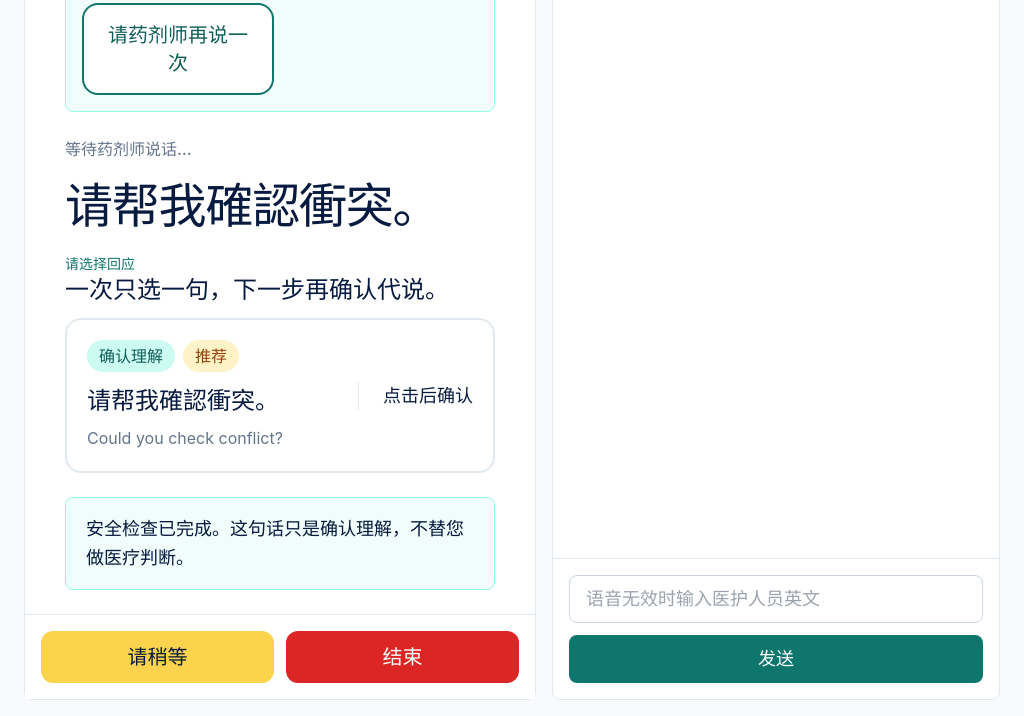
it: ConversationPage › renders State C (Inline Confirmation) directly replacing cards list
(page scrolled)
// Click to select the card to enter State C (Confirmation)
Click the button "确认理解 推荐 请帮我確認衝突。 Could you check conflict? 点击后确认". click: coordinates (280, 396)
box: [65, 318, 495, 473]
(page scrolled)
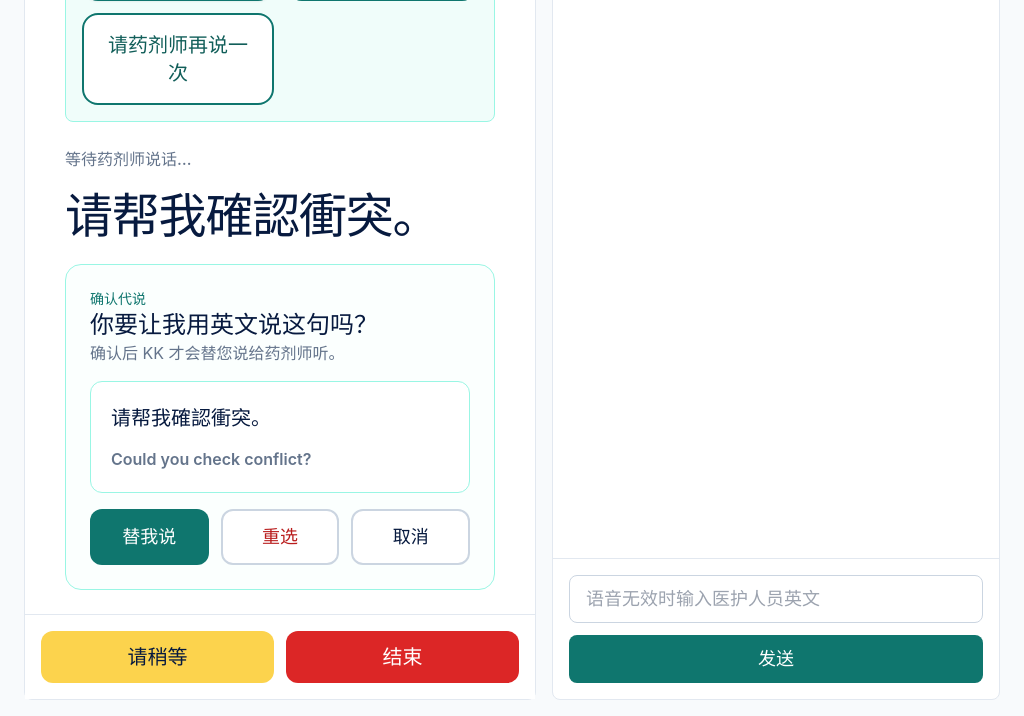
Expected: the heading "你要让我用英文说这句吗？" is shown, [90, 310, 378, 339]
Expected: the button "替我说" is shown, [90, 509, 209, 565]
Expected: the button "重选" is shown, [221, 509, 339, 565]
